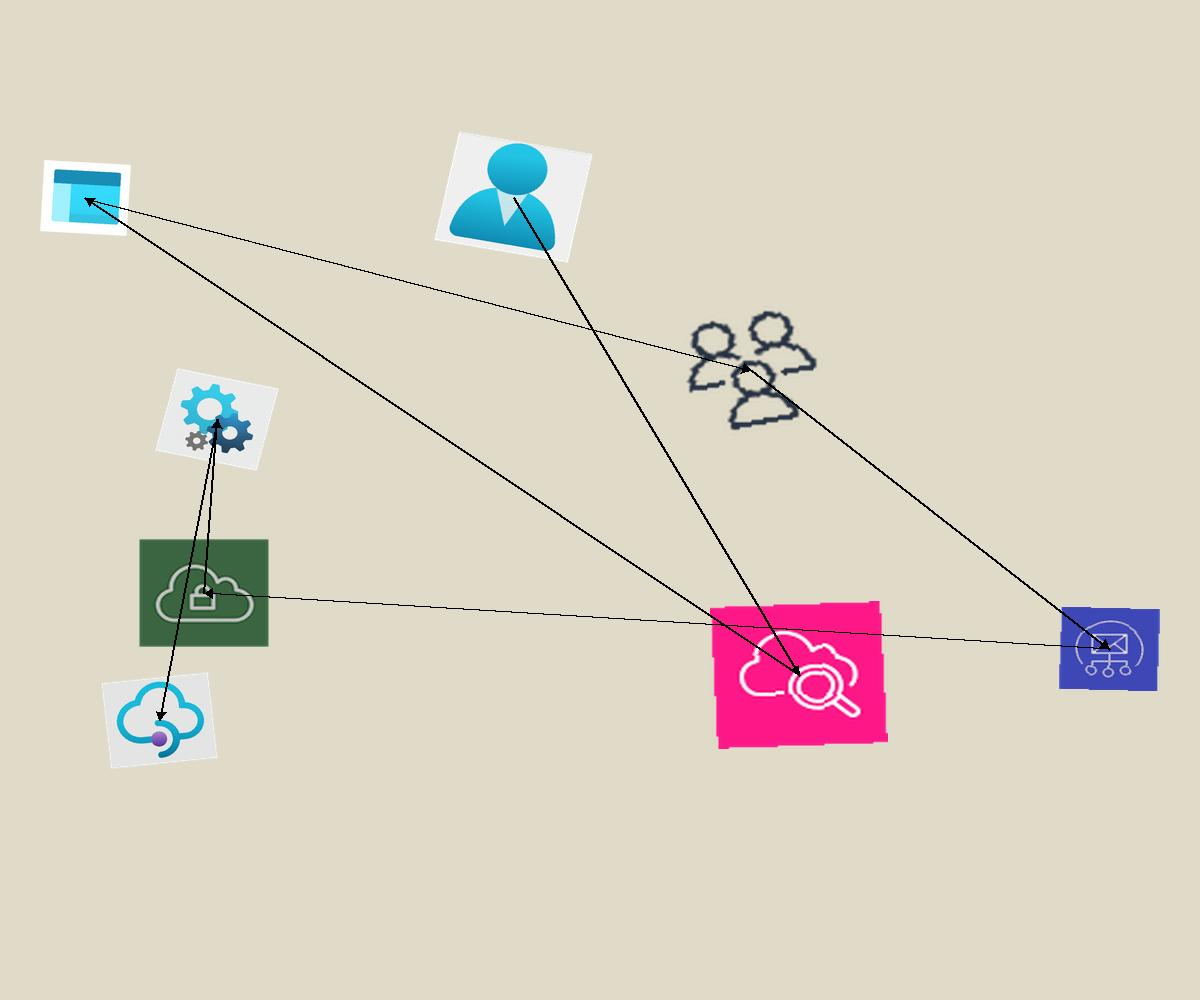AWS-CloudWatch: (710, 601, 888, 749)
AWS-Private_vpc: (138, 538, 270, 648)
AWS-Res_Users: (666, 299, 837, 442)
AWS-Simple-Email-Service: (1058, 606, 1161, 692)
Azure_api: (155, 368, 279, 471)
Azure_api_gateway: (101, 672, 218, 769)
Azure_management-portal: (40, 160, 131, 236)
Azure_users: (434, 131, 593, 263)
